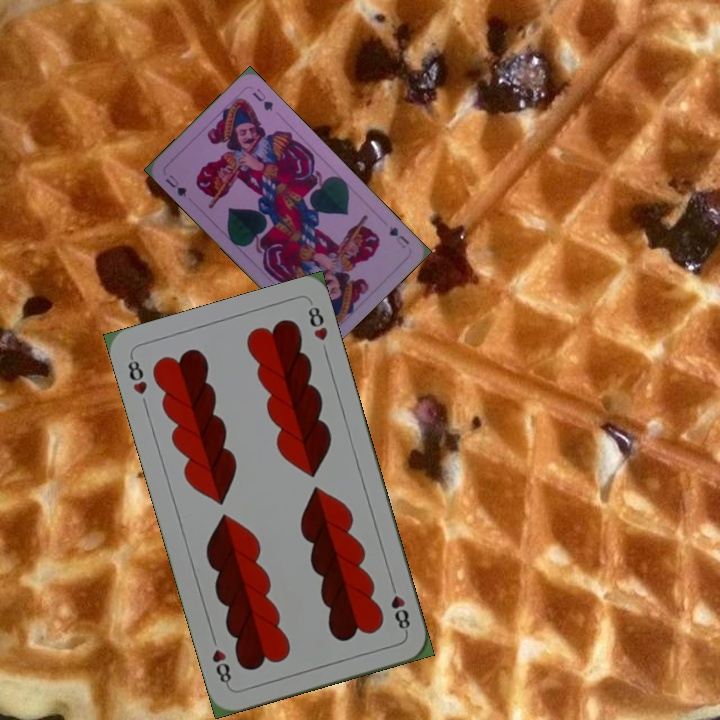GU: (161, 171, 189, 200), (385, 222, 412, 251)
H8: (386, 578, 413, 636), (123, 352, 150, 397)
